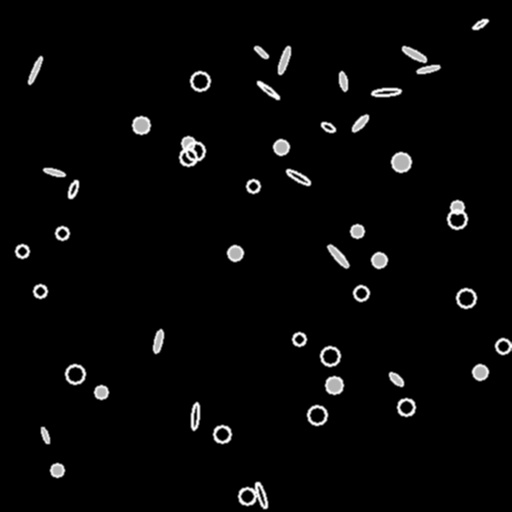pseudomonas: (326, 243, 350, 269), (256, 80, 280, 100), (276, 45, 292, 75), (285, 168, 311, 186), (401, 45, 427, 63), (27, 56, 43, 84), (254, 481, 268, 509), (351, 114, 369, 132), (152, 329, 164, 353), (190, 402, 200, 430), (372, 87, 400, 97), (388, 371, 404, 387), (253, 45, 269, 59), (43, 167, 65, 177), (417, 64, 439, 74), (67, 180, 79, 198), (320, 121, 336, 133), (472, 18, 488, 30), (338, 72, 348, 90), (40, 427, 50, 443)
synechocystis: (308, 406, 326, 424), (457, 289, 475, 307), (66, 365, 84, 383), (186, 142, 204, 160), (191, 72, 209, 90), (448, 210, 466, 228), (392, 153, 410, 171), (321, 347, 339, 365), (398, 399, 414, 415), (239, 488, 255, 504), (326, 377, 342, 393), (180, 149, 196, 165), (133, 117, 149, 133), (214, 426, 230, 442), (354, 286, 368, 300), (228, 246, 242, 260), (274, 140, 288, 154), (473, 365, 487, 379), (496, 339, 510, 353), (372, 253, 386, 267), (293, 333, 305, 345), (51, 464, 63, 476), (56, 227, 68, 239), (16, 245, 28, 257), (95, 386, 107, 398), (451, 201, 463, 213), (182, 137, 194, 149), (351, 225, 363, 237), (34, 285, 46, 297), (247, 180, 259, 192)
